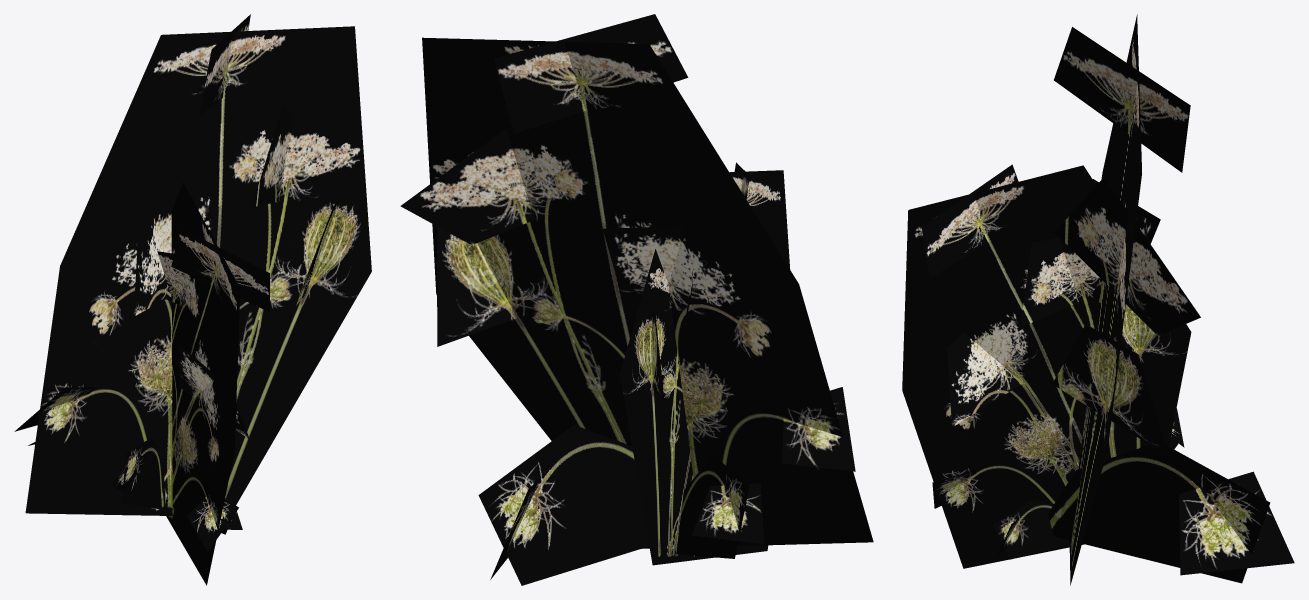
Rendered from 06_Daucus_carota_middel_001.fbx.
3 views of the same model, side by side, from view 1: azimuth 30°, elevation 25°; view 2: azimuth 150°, elevation 25°; view 3: azimuth 270°, elevation 25° (orthographic). The views are drawn at different scales.
Visible parts, largest first — view 1: 06_Daucus_carota.middel.001; view 2: 06_Daucus_carota.middel.001; view 3: 06_Daucus_carota.middel.001.
Part boxes in pixels (x1,y1,x2,y2): 06_Daucus_carota.middel.001: [14, 14, 371, 585]; 06_Daucus_carota.middel.001: [400, 14, 873, 585]; 06_Daucus_carota.middel.001: [902, 14, 1294, 585].
Size of the model in its own units: 0.1299 by 0.1671 by 0.104.
